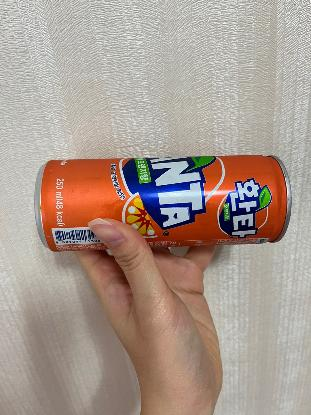Can: (31, 153, 296, 256)
